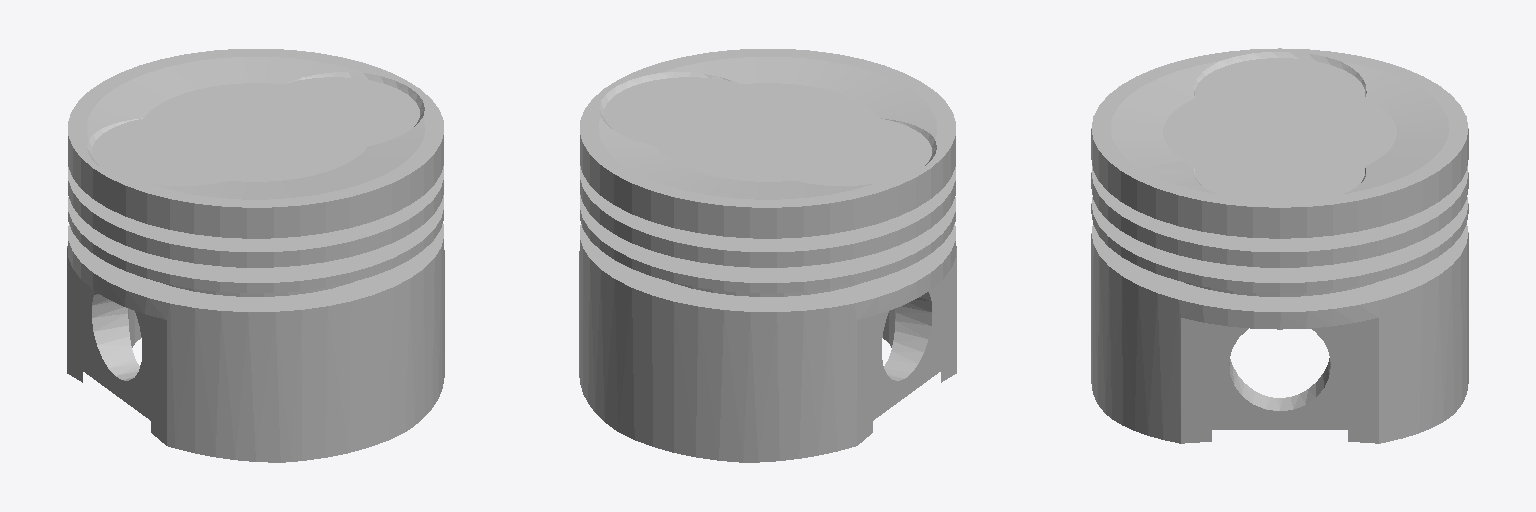
Rendered from Поршень_.obj.
3 views of the same model, side by side, from view 1: azimuth 30°, elevation 25°; view 2: azimuth 150°, elevation 25°; view 3: azimuth 270°, elevation 25° (orthographic).
Parts seen in each view (by area): view 1: Поршень_; view 2: Поршень_; view 3: Поршень_.
Boxes of the visible parts, x1,y1,x2,y2 form: Поршень_: [67, 49, 444, 462]; Поршень_: [579, 49, 956, 462]; Поршень_: [1091, 48, 1468, 443].
Size of the model in its own units: 79.1 by 59.17 by 79.1.